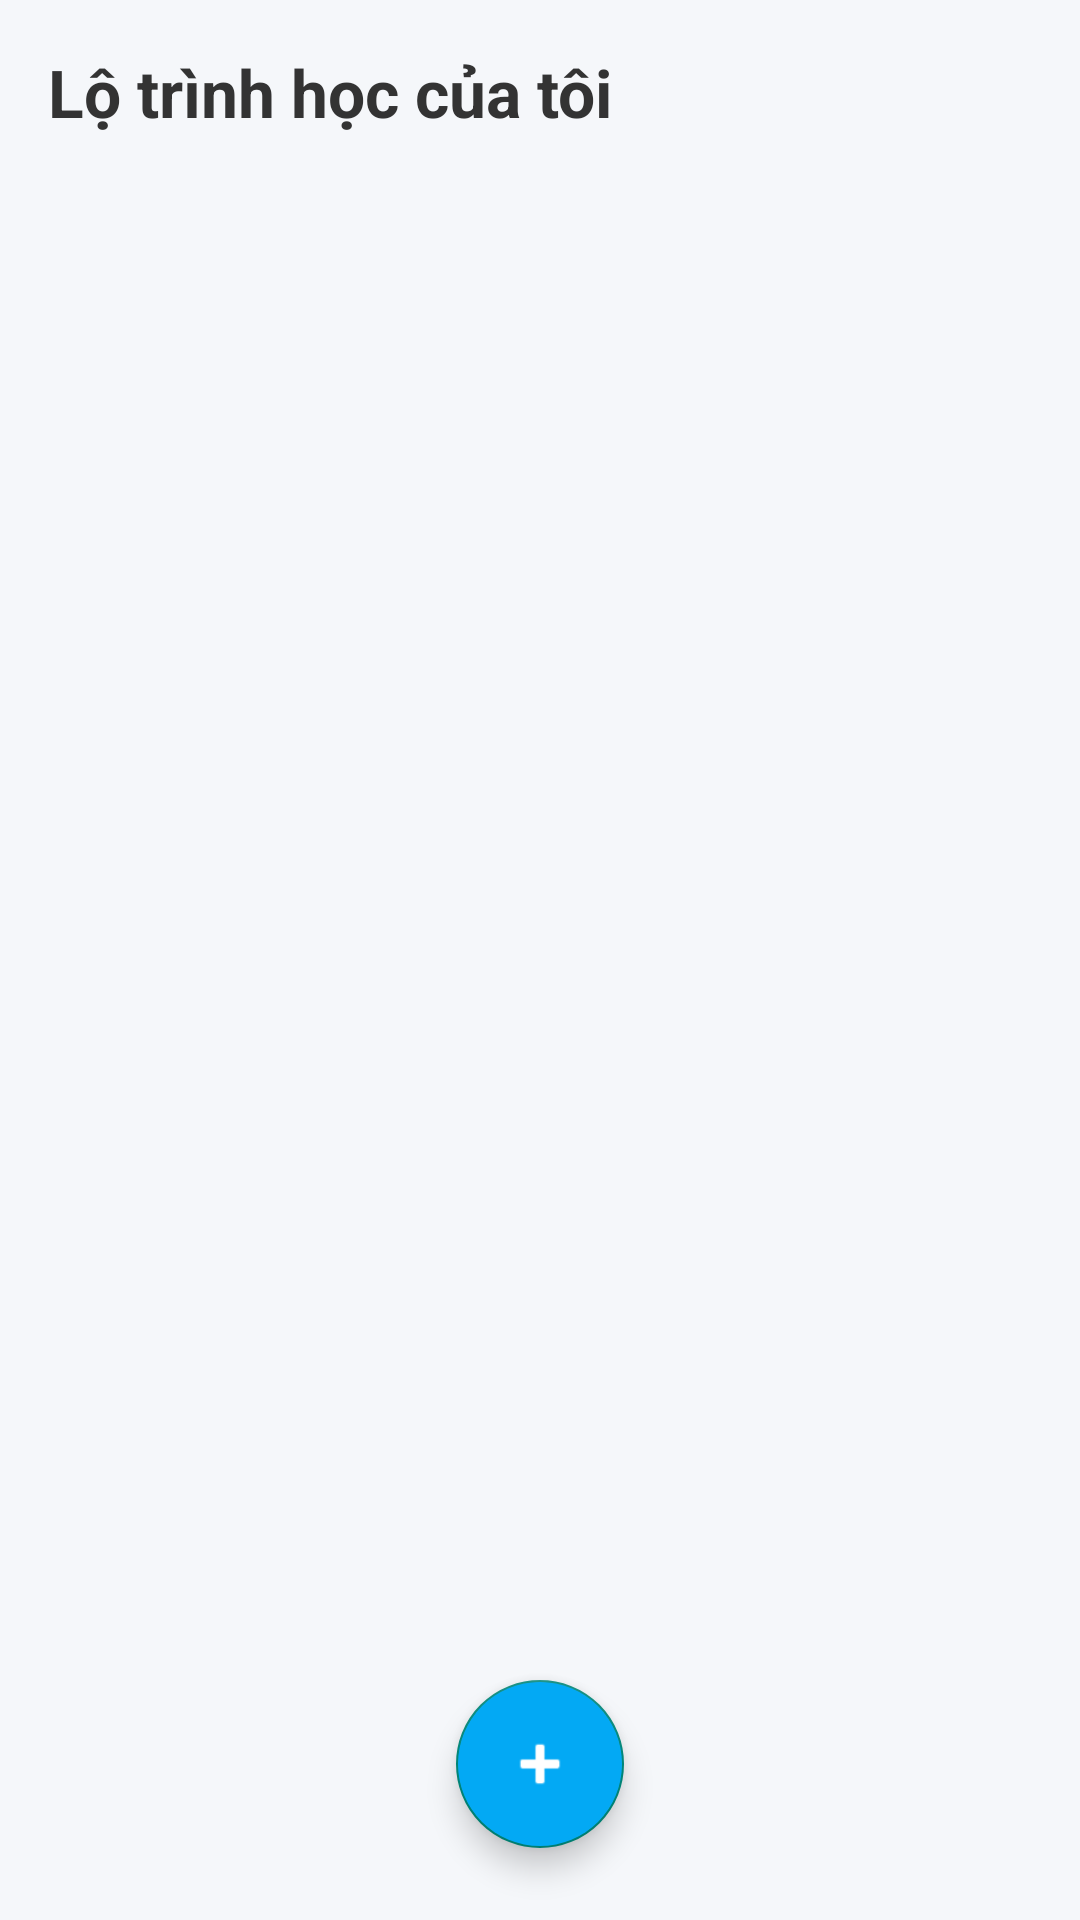

Named icons in this screenshot (1080px x 1920px) and their centers, (x,y):
add: (540,1764)
